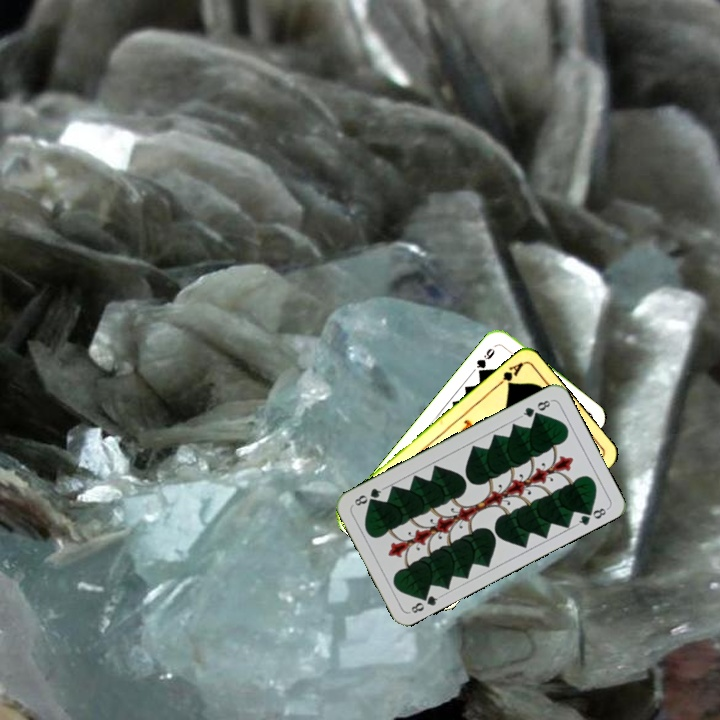G8: (407, 589, 444, 616), (517, 396, 554, 420)
G9: (472, 340, 500, 377)
GA: (491, 359, 525, 390)
